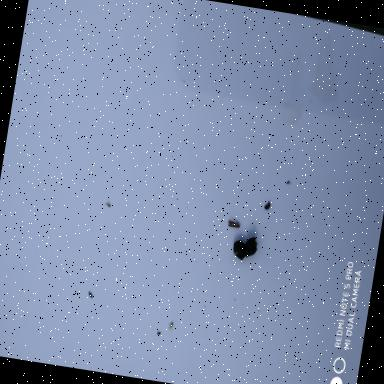pbw: (225, 216, 242, 230)
